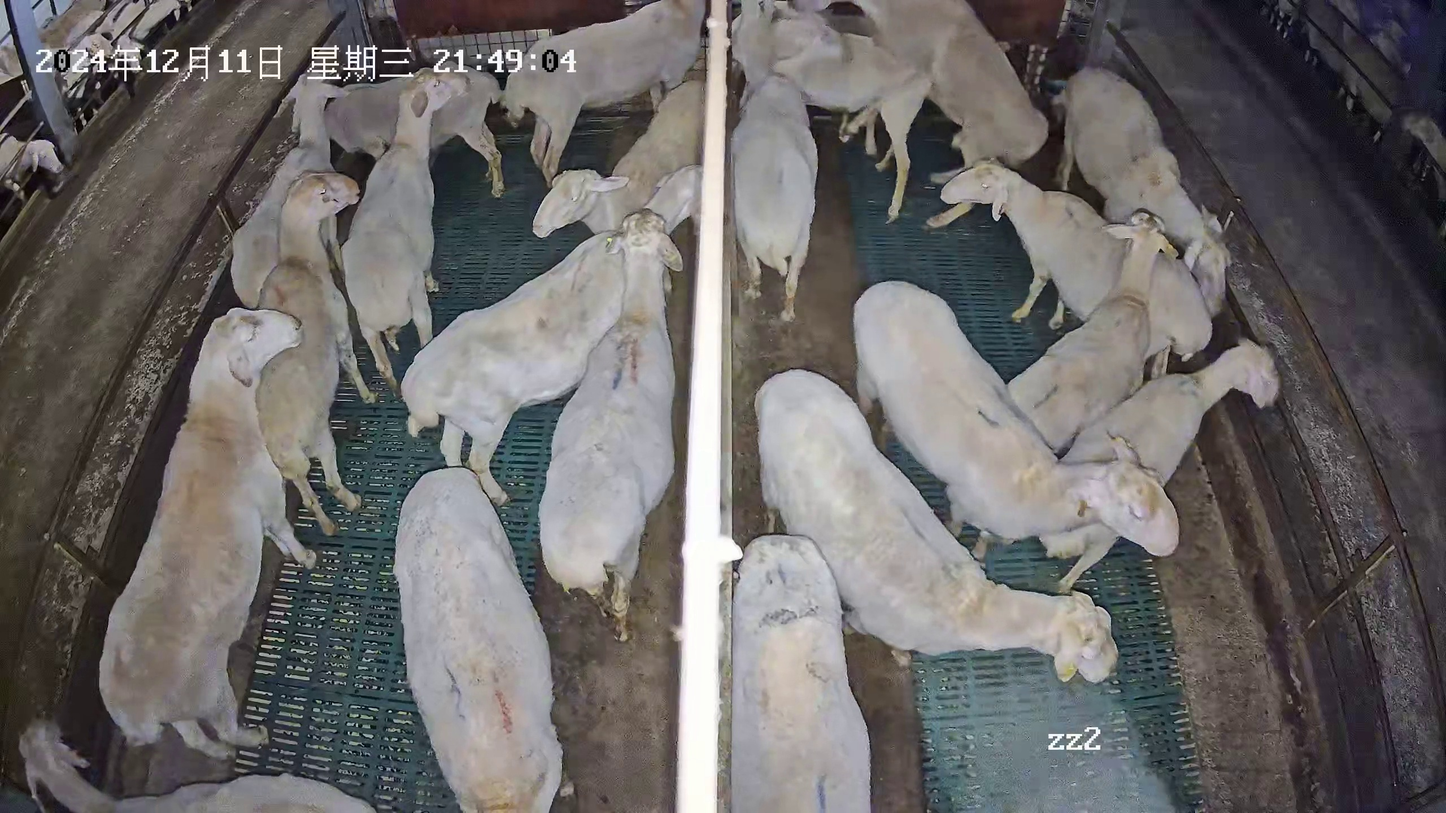Smounting: (762, 1, 1048, 224)
mounted: (765, 15, 930, 221)
